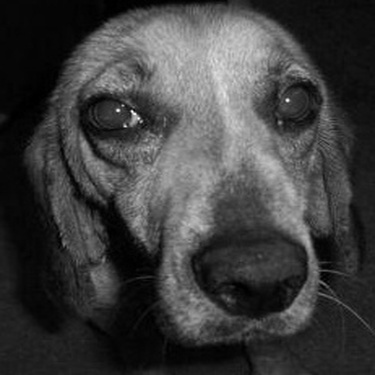dog: (11, 2, 363, 369)
